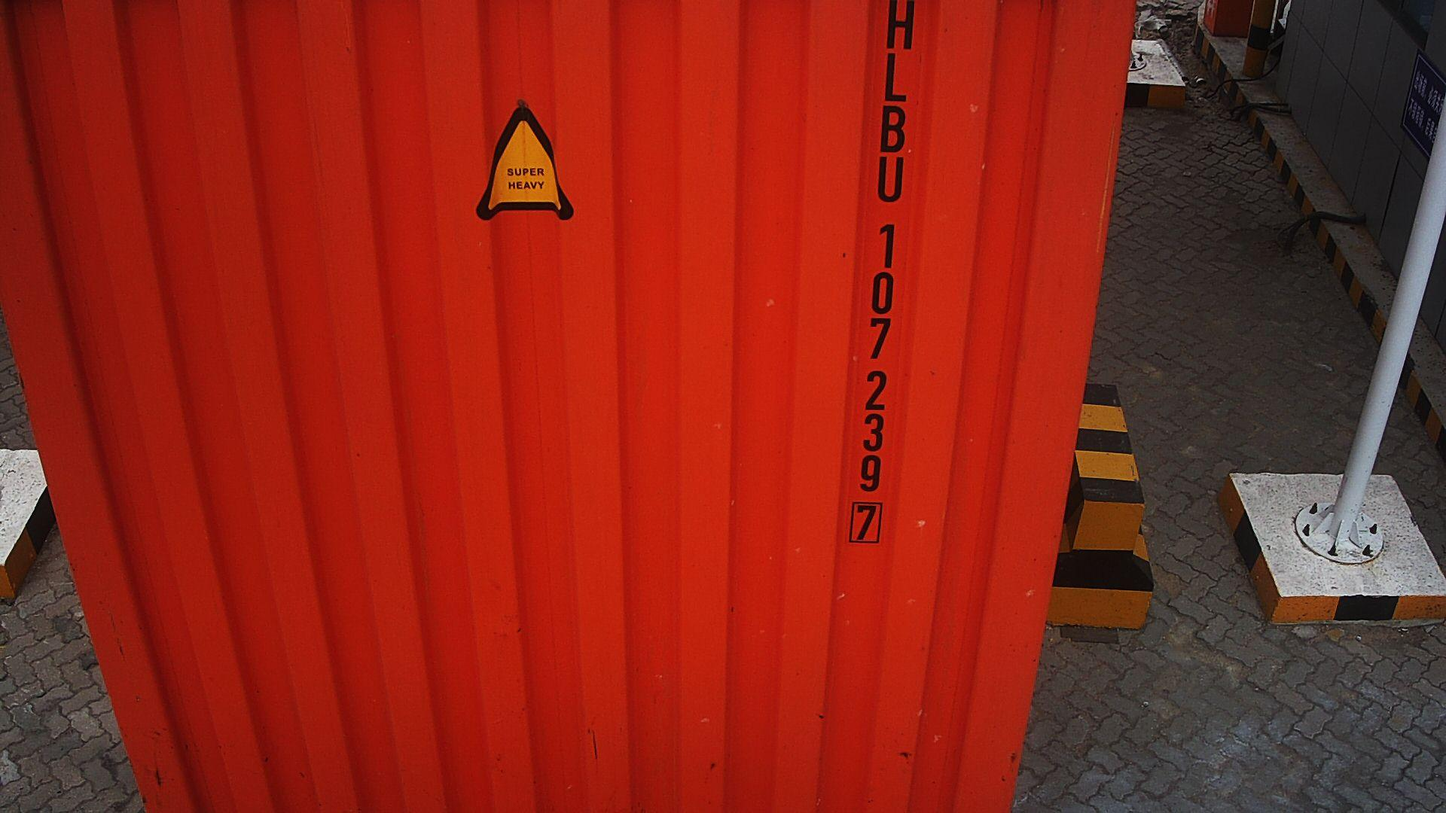container-numbers: (844, 0, 919, 550)
